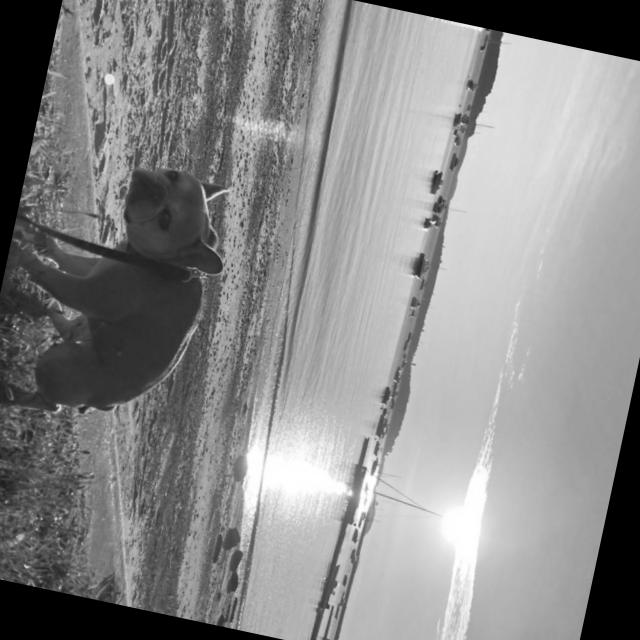squatting: (0, 130, 245, 449)
